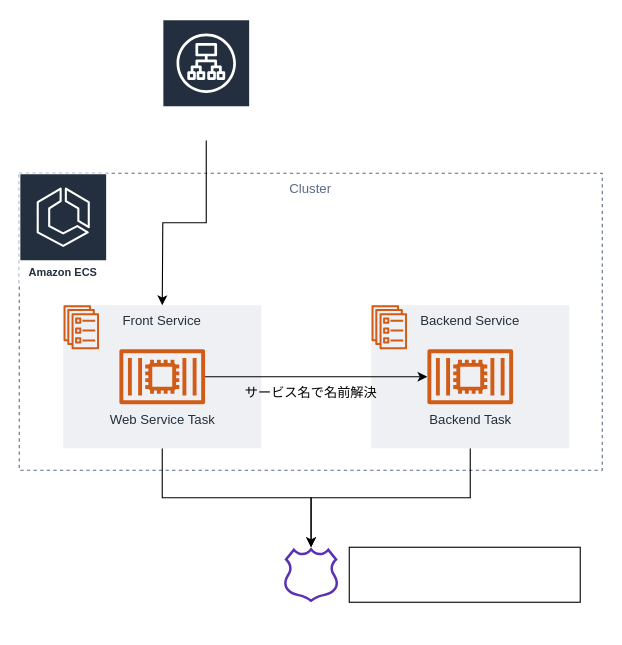
This 622x645 diagram has some shape labels left out. Here are the shapes that lost their labels. From the top down, the centre of each, then its label:
the point at 205,79: Application Load Balancer
the point at 310,574: Private Hosted Zone
the point at 464,574: Front Service IN A xx.xxx.xxx.xxx Backend Service IN A yyy.yy.y.y
